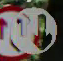Two way: (11, 3, 56, 55)
